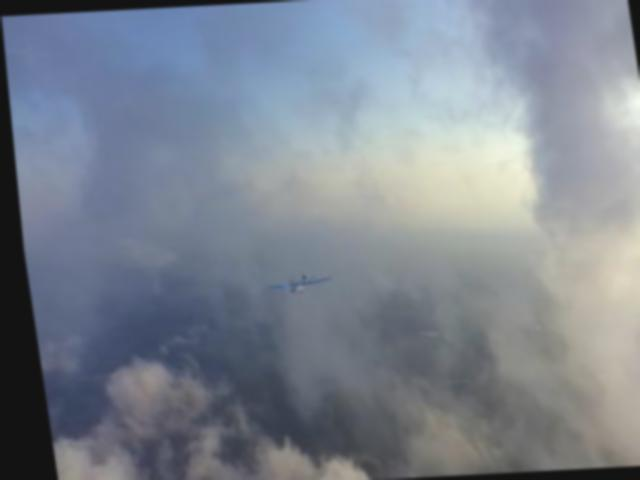uav: (259, 264, 329, 298)
